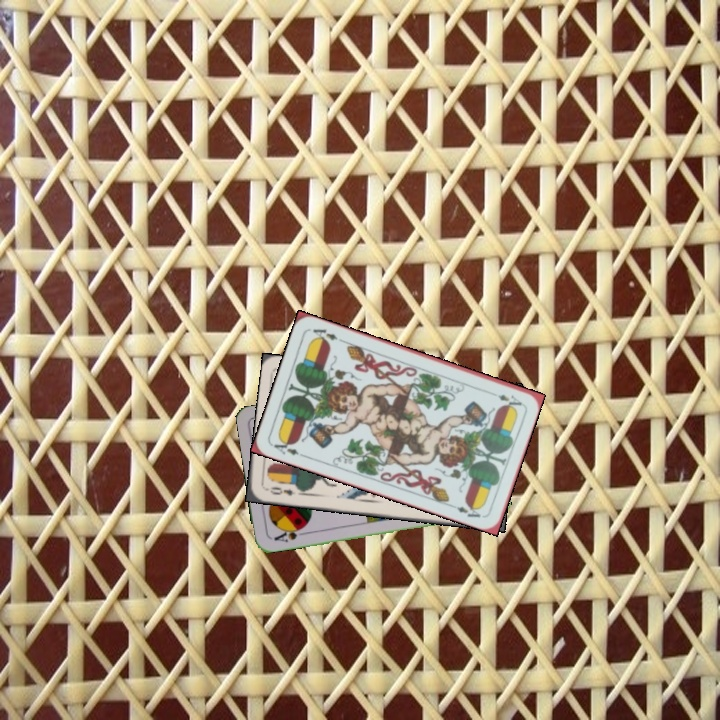EA: (268, 436, 308, 460), (485, 387, 525, 408)
EO: (262, 483, 298, 498)
SA: (270, 523, 309, 545)
